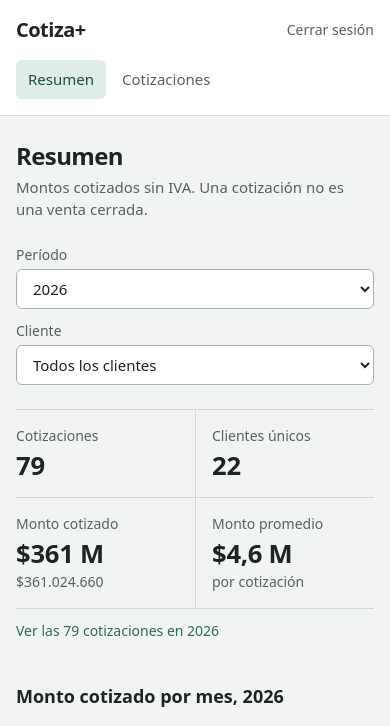
Scenario: Épica 002 · autenticación y protección de la información › CP-F08: cerrar sesión borra el token y vuelve al login
Click the button "Cerrar sesión" at (330, 30), box [287,20,374,40]
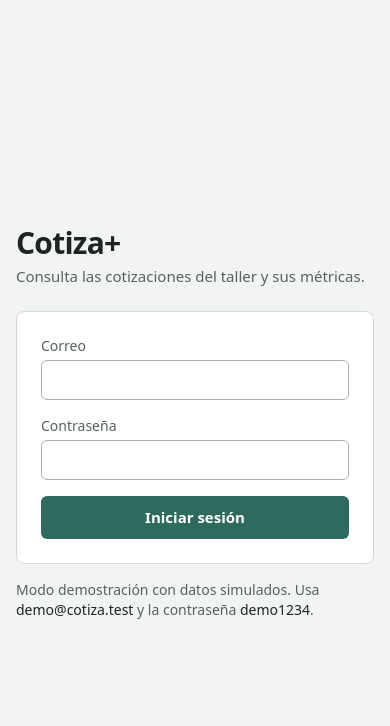
Expected: the button "Iniciar sesión" is shown, [41,496,349,538]
